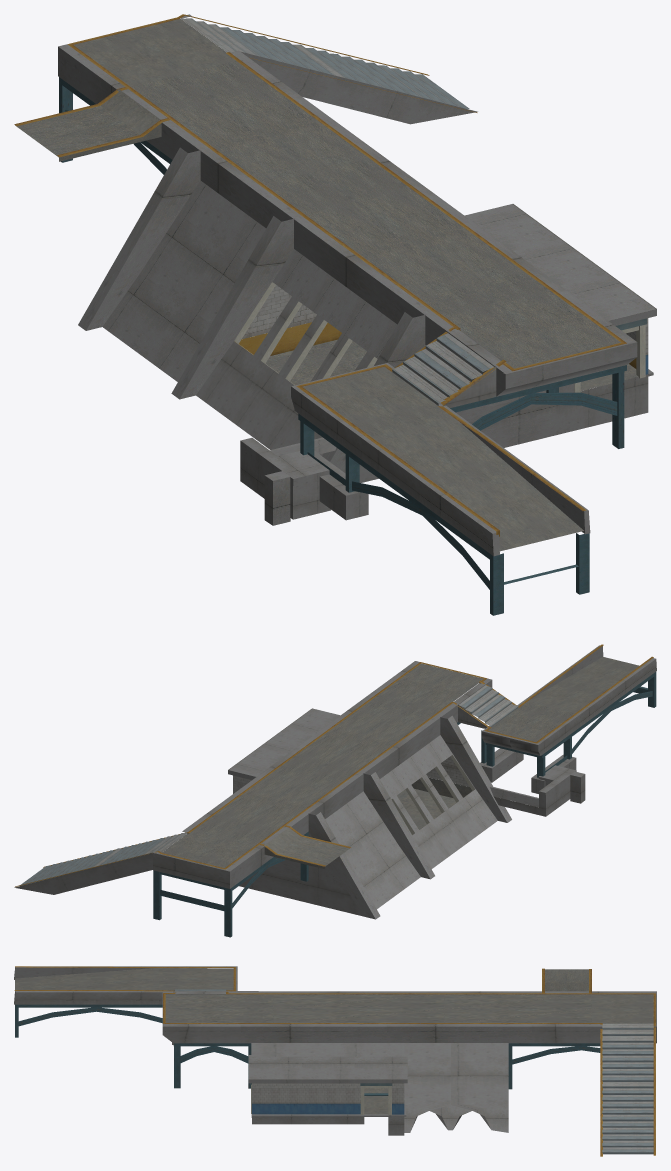
The model's file is Building_Fdc01_2048_lod2.glb.
The picture shows the model from 3 angles, top to bottom: view 1: azimuth 30°, elevation 25°; view 2: azimuth 150°, elevation 25°; view 3: azimuth 270°, elevation 25°; orthographic projection. The views are drawn at different scales.
Visible parts, largest first — view 1: xiutz_fdc_01_lod2; view 2: xiutz_fdc_01_lod2; view 3: xiutz_fdc_01_lod2.
Boxes of the visible parts, x1,y1,x2,y2 form: xiutz_fdc_01_lod2: [14, 14, 656, 615]; xiutz_fdc_01_lod2: [14, 644, 656, 937]; xiutz_fdc_01_lod2: [14, 966, 656, 1156].
Bounding box in the file's own units: 37.23 × 9.99 × 66.32.
Materials: 1 (1 with a texture image).
